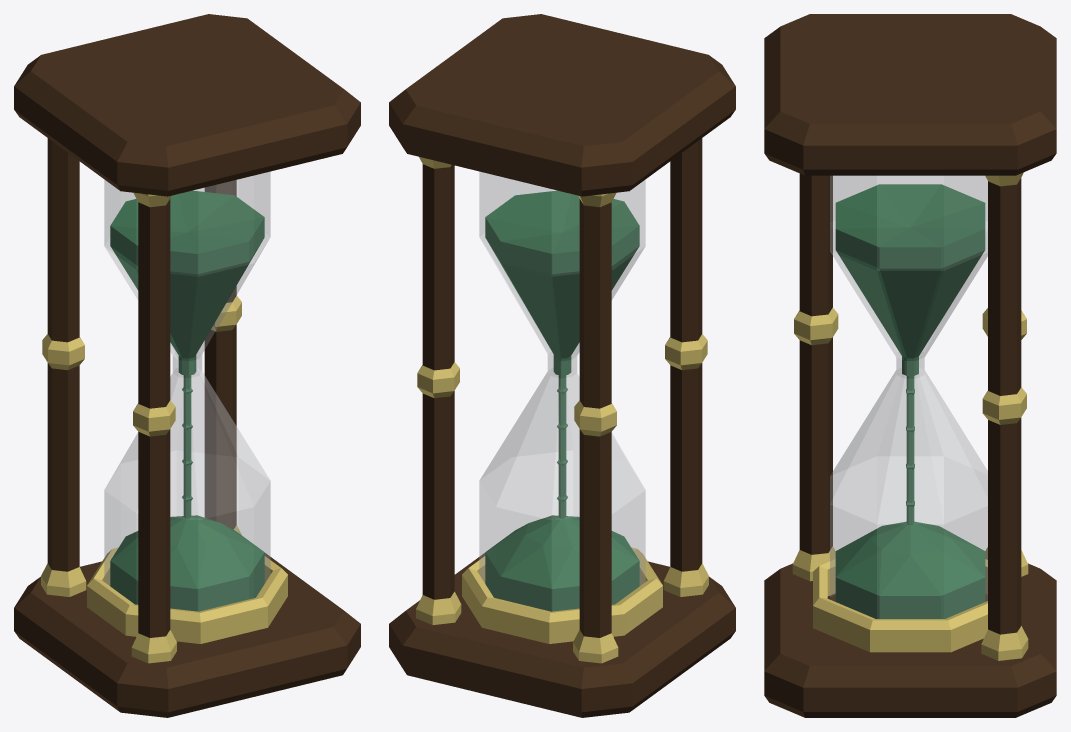
Rendered from stopwatch.glb.
The picture shows the model from 3 angles, left to right: view 1: azimuth 30°, elevation 25°; view 2: azimuth 150°, elevation 25°; view 3: azimuth 270°, elevation 25°; orthographic projection. The views are drawn at different scales.
Parts seen in each view (by area): view 1: wood, glass, sand, trim; view 2: wood, glass, sand, trim; view 3: wood, glass, sand, trim.
Part boxes in pixels (x1,y1,x2,y2): wood: [14, 14, 360, 717]; glass: [104, 172, 270, 611]; sand: [110, 190, 264, 611]; trim: [41, 192, 287, 663]; wood: [389, 14, 735, 717]; glass: [479, 172, 645, 611]; sand: [485, 190, 639, 611]; trim: [416, 157, 708, 663]; wood: [764, 14, 1056, 717]; glass: [830, 176, 987, 618]; sand: [835, 184, 985, 618]; trim: [792, 172, 1028, 660].
Bounding box in the file's own units: 0.045 × 0.1 × 0.045.
